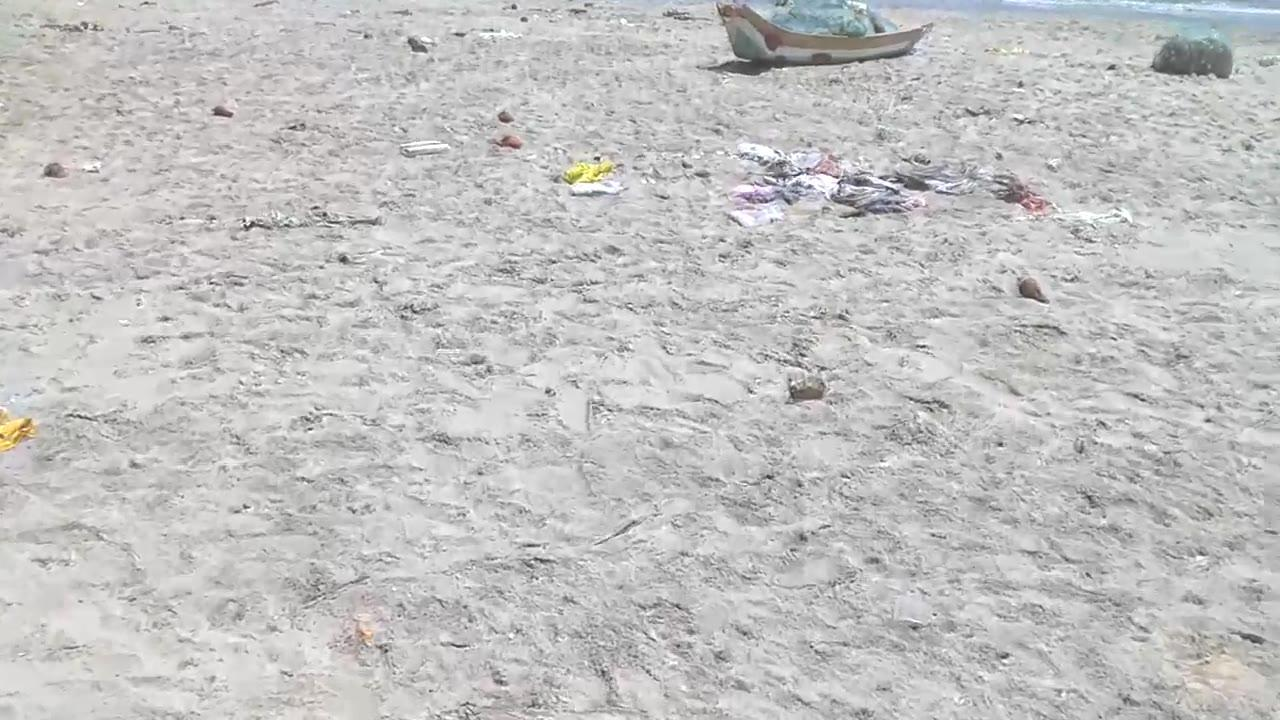large collection of objects: (716, 0, 932, 73), (1150, 33, 1238, 80)
obj: (729, 140, 927, 229), (230, 206, 384, 238), (903, 151, 990, 194), (0, 406, 37, 454), (784, 373, 829, 403), (560, 162, 616, 185), (400, 136, 452, 158), (992, 174, 1028, 202), (569, 182, 626, 197), (1022, 192, 1054, 215), (1019, 282, 1049, 302), (405, 34, 428, 54), (42, 161, 62, 181), (206, 104, 232, 118), (80, 158, 96, 175), (496, 112, 514, 123)
sand/background: (868, 0, 1278, 33)
